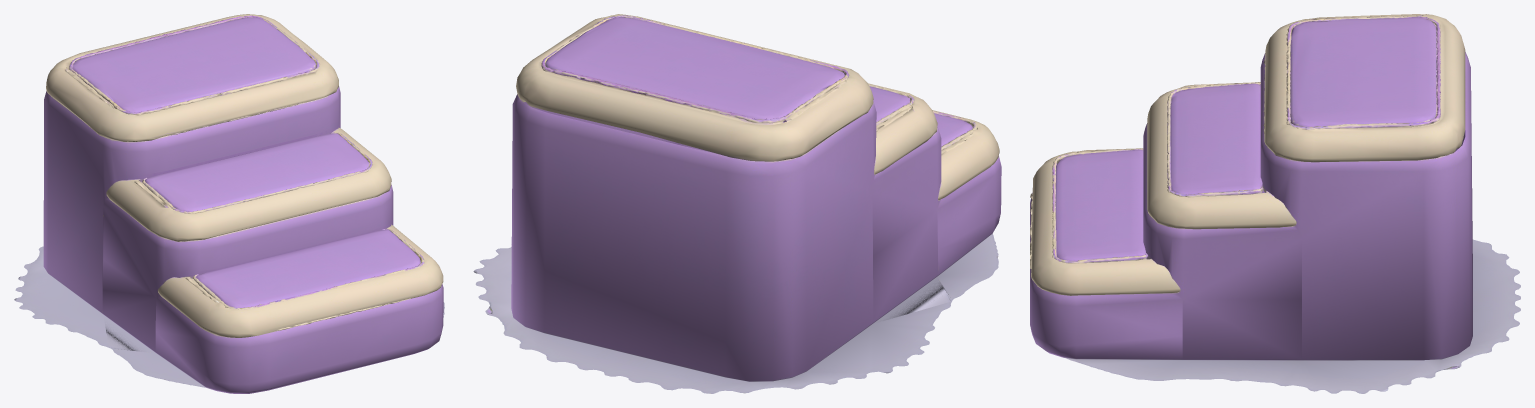
File: step_platform.glb
3 renders of one model, left to right at view 1: azimuth 30°, elevation 25°; view 2: azimuth 150°, elevation 25°; view 3: azimuth 270°, elevation 25°, orthographic. The views are drawn at different scales.
Parts seen in each view (by area): view 1: tripo_node_7051b537-7d59-4b9d-ac66-9ce610a8e278; view 2: tripo_node_7051b537-7d59-4b9d-ac66-9ce610a8e278; view 3: tripo_node_7051b537-7d59-4b9d-ac66-9ce610a8e278.
Part boxes in pixels (x1=…): tripo_node_7051b537-7d59-4b9d-ac66-9ce610a8e278: x1=14, y1=14, x2=444, y2=393; tripo_node_7051b537-7d59-4b9d-ac66-9ce610a8e278: x1=473, y1=14, x2=1001, y2=393; tripo_node_7051b537-7d59-4b9d-ac66-9ce610a8e278: x1=1030, y1=14, x2=1520, y2=393.
Bounding box in the file's own units: 0.9238 × 0.5176 × 0.998.
Materials: 1 (1 with a texture image).
